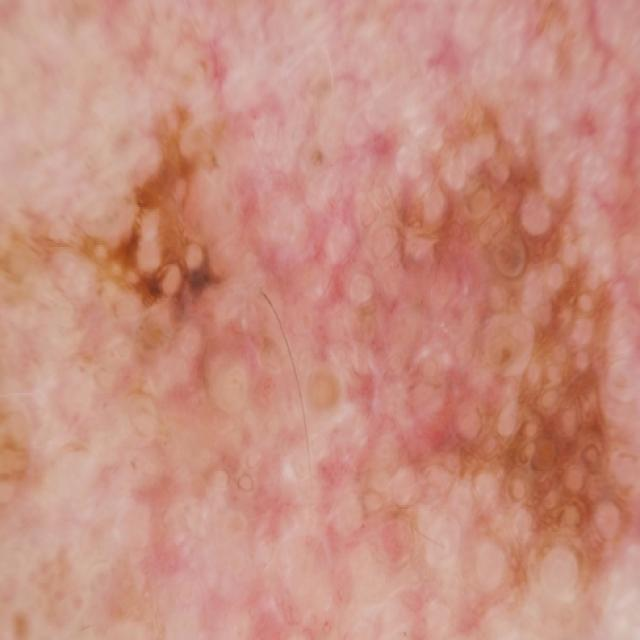Melanoma: (84, 86, 549, 563)
